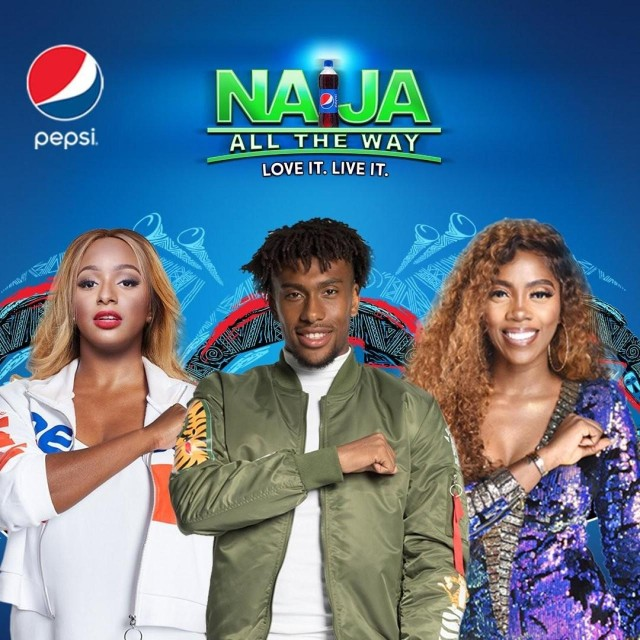pepsi: (22, 39, 116, 122), (316, 92, 338, 113)
